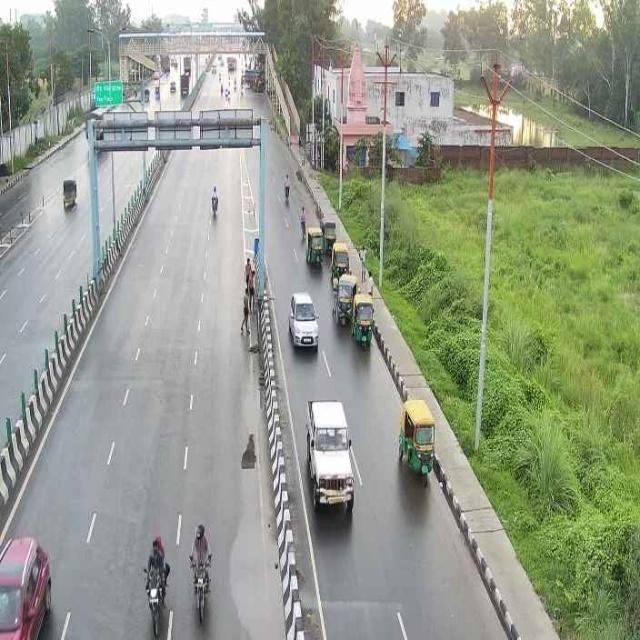car: (302, 389, 361, 523), (1, 530, 60, 639), (284, 288, 321, 356), (56, 173, 83, 215)
